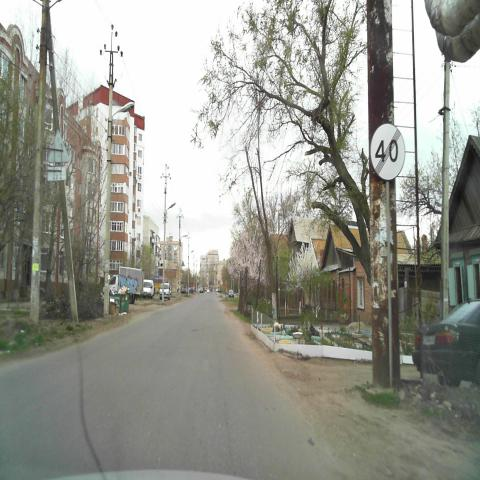3_25: (369, 122, 406, 184)
